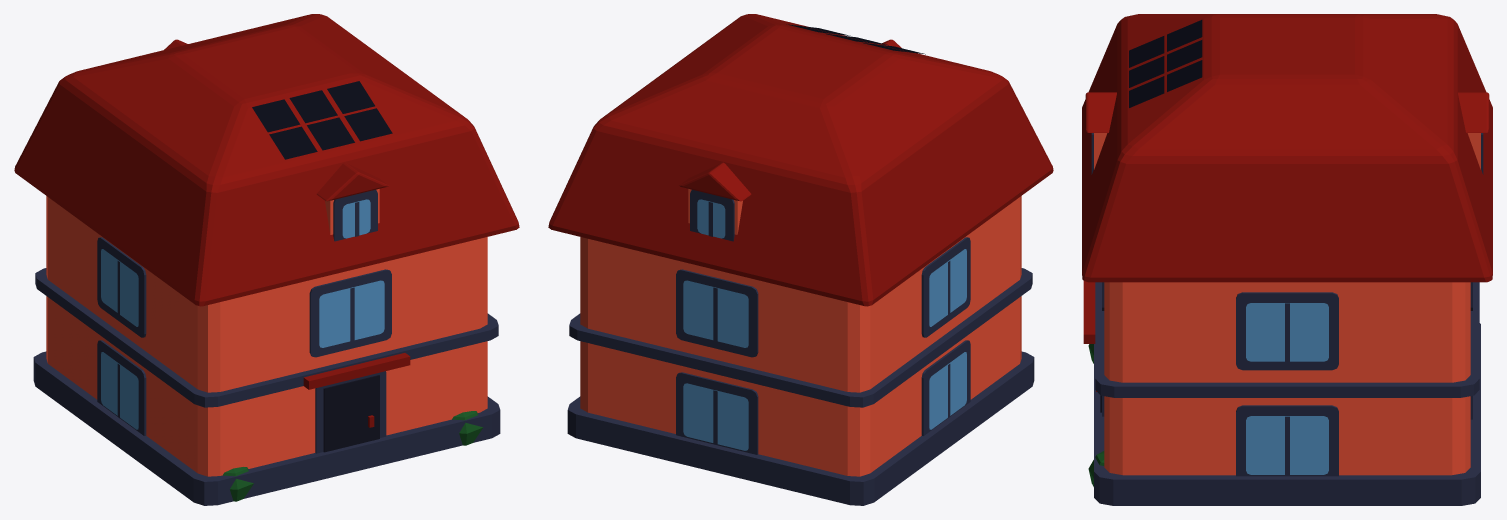
Rendered from house-1x1-2f-mansard-c-solar.glb.
3 views of the same model, side by side, from view 1: azimuth 30°, elevation 25°; view 2: azimuth 150°, elevation 25°; view 3: azimuth 270°, elevation 25° (orthographic). The views are drawn at different scales.
Visible parts, largest first — view 1: house-1x1-2f-mansard-c-solar; view 2: house-1x1-2f-mansard-c-solar; view 3: house-1x1-2f-mansard-c-solar.
Part boxes in pixels (x1,y1,x2,y2): house-1x1-2f-mansard-c-solar: (14,14,519,505); house-1x1-2f-mansard-c-solar: (548,14,1053,505); house-1x1-2f-mansard-c-solar: (1082,14,1492,505).
Size of the model in its own units: 0.9876 by 1 by 0.9876.
1 material, 1 textured.
